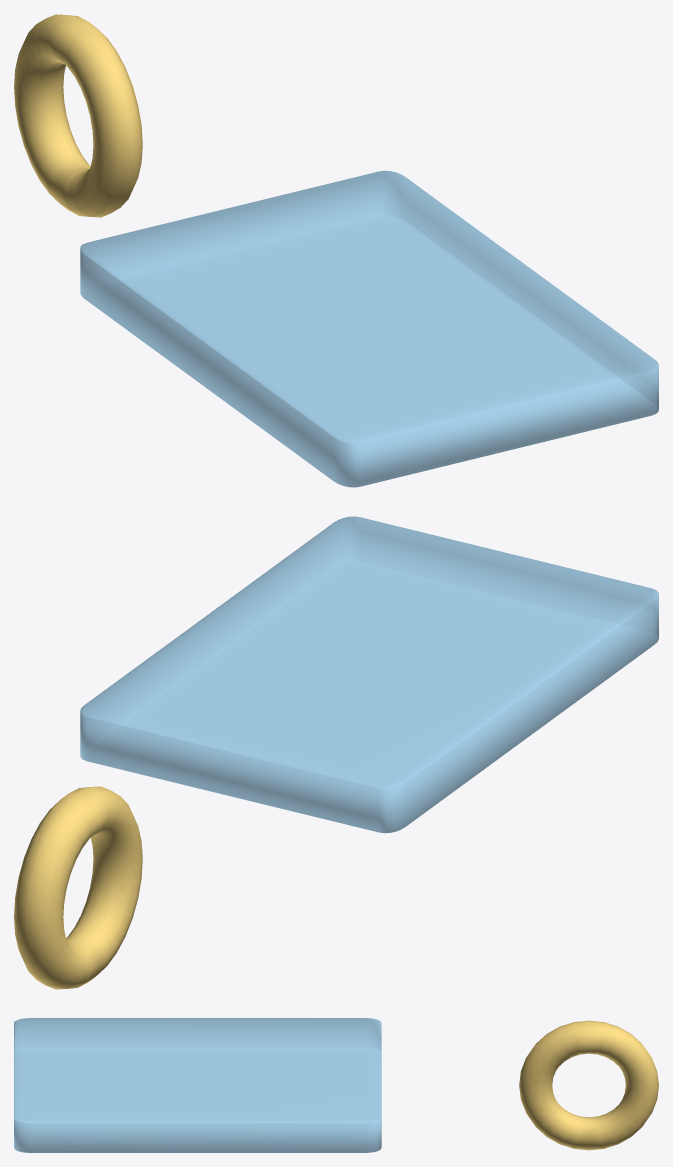
The model's file is yupai.glb.
The picture shows the model from 3 angles, top to bottom: view 1: azimuth 30°, elevation 25°; view 2: azimuth 150°, elevation 25°; view 3: azimuth 270°, elevation 25°; orthographic projection. The views are drawn at different scales.
Visible parts, largest first — view 1: yupai; view 2: yupai; view 3: yupai.
Boxes of the visible parts, box(x1,y1,x2,y2) form: yupai: box(14, 14, 658, 487); yupai: box(14, 516, 658, 989); yupai: box(14, 1018, 658, 1152).
Size of the model in its own units: 0.42 by 0.236 by 1.09.
